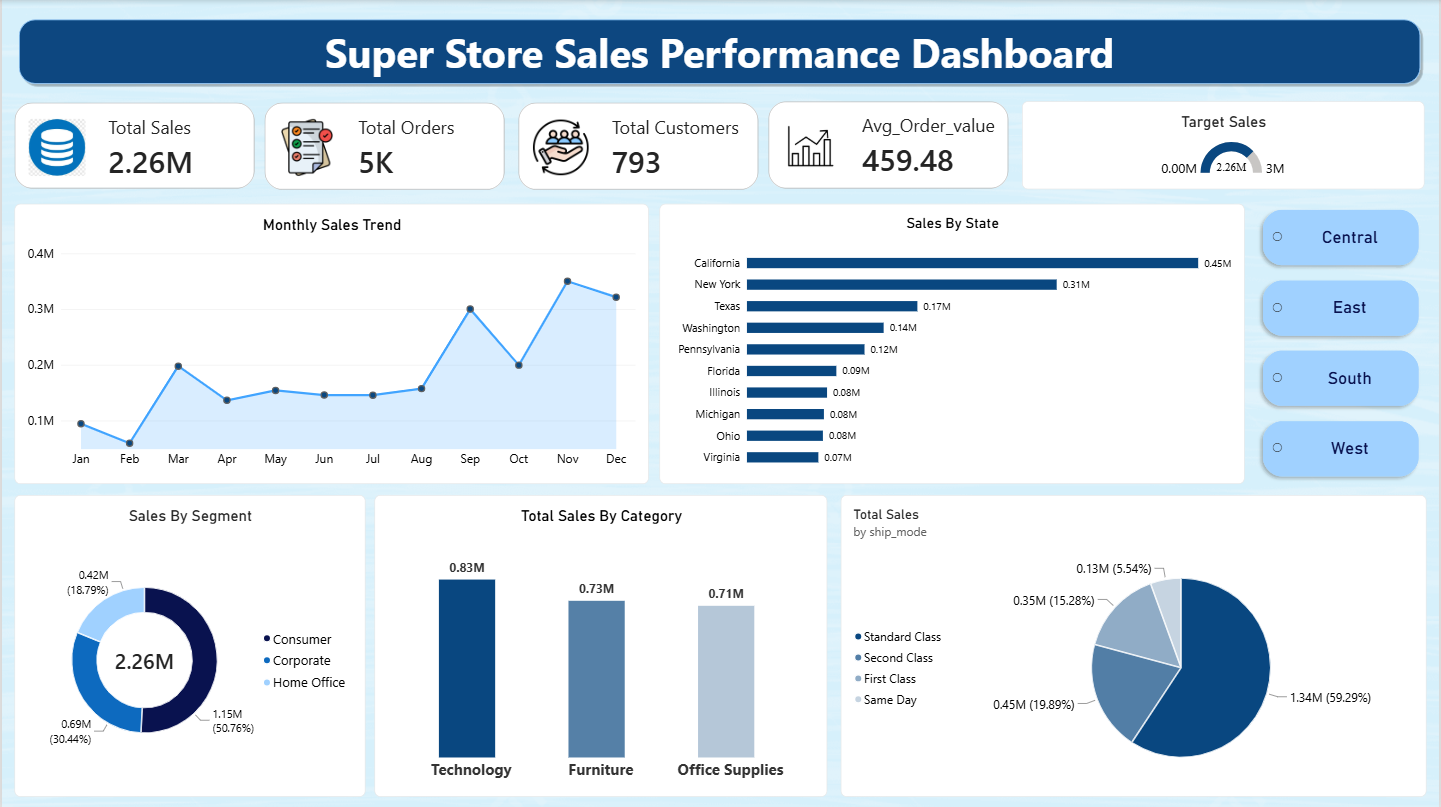

Layout of this report page (visuals, bound fields, positions):
{"tool":"powerbi","page":{"name":"Page 1","canvas":[1920,1080],"ordinal":0},"visuals":[{"type":"cardVisual","fields":{"Data":["public store_data.Total Sales"]},"box":[16.3,137.5,321.8,115.7],"z":0},{"type":"cardVisual","fields":{"Data":["public store_data.Total Orders"]},"box":[351.1,137.5,321.8,117.8],"z":1},{"type":"cardVisual","fields":{"Data":["public store_data.Avg_Order_value"]},"box":[1024.3,135.7,321.8,117.8],"z":4},{"type":"cardVisual","fields":{"Data":["public store_data.Total Customers"]},"box":[689.5,137.5,321.8,117.8],"z":5},{"type":"lineChart","title":"Monthly Sales Trend","fields":{"Category":["public store_data.Month_name"],"Y":["public store_data.Total Sales"]},"box":[16.3,271.4,846.9,374.6],"z":6},{"type":"columnChart","title":"Total Sales By Category","fields":{"Category":["public store_data.category"],"Y":["public store_data.Total Sales"]},"box":[498.1,660.7,605.1,403.4],"z":7},{"type":"donutChart","title":"Sales By Segment","fields":{"Category":["public store_data.segment"],"Y":["public store_data.Total Sales"]},"box":[16.3,660.5,468.7,403.6],"z":8},{"type":"clusteredBarChart","title":"Sales By State","fields":{"Category":["public store_data.state_lived"],"Y":["public store_data.Total Sales"]},"box":[877.7,271.4,781.8,374.6],"z":9},{"type":"advancedSlicerVisual","fields":{"Values":["public store_data.region"]},"box":[1675.7,271.4,224.4,374.6],"z":10},{"type":"pieChart","fields":{"Category":["public store_data.ship_mode"],"Y":["public store_data.Total Sales"]},"box":[1119.7,660.7,782.2,403.4],"z":11},{"type":"gauge","title":"Target Sales","fields":{"MaxValue":["public store_data.Sales Target"],"Y":["public store_data.Total Sales"]},"box":[1362.6,135.8,537.2,117.3],"z":12},{"type":"shape","box":[16.3,19.9,1883.9,97.7],"z":13}]}

Visuals, with their boxes in screenshot pixels (x1, y1, x2, y2), scaled from the page's 1920x1080 canvas onto the 1441x807 screenshot:
cardVisual - public store_data.Total Sales: pyautogui.locateOnScreen(12, 103, 254, 189)
cardVisual - public store_data.Total Orders: pyautogui.locateOnScreen(264, 103, 505, 191)
cardVisual - public store_data.Avg_Order_value: pyautogui.locateOnScreen(769, 101, 1010, 189)
cardVisual - public store_data.Total Customers: pyautogui.locateOnScreen(517, 103, 759, 191)
"Monthly Sales Trend" lineChart: pyautogui.locateOnScreen(12, 203, 648, 483)
"Total Sales By Category" columnChart: pyautogui.locateOnScreen(374, 494, 828, 795)
"Sales By Segment" donutChart: pyautogui.locateOnScreen(12, 494, 364, 795)
"Sales By State" clusteredBarChart: pyautogui.locateOnScreen(659, 203, 1245, 483)
advancedSlicerVisual - public store_data.region: pyautogui.locateOnScreen(1258, 203, 1426, 483)
pieChart - public store_data.ship_mode x public store_data.Total Sales: pyautogui.locateOnScreen(840, 494, 1427, 795)
"Target Sales" gauge: pyautogui.locateOnScreen(1023, 101, 1426, 189)
shape: pyautogui.locateOnScreen(12, 15, 1426, 88)
